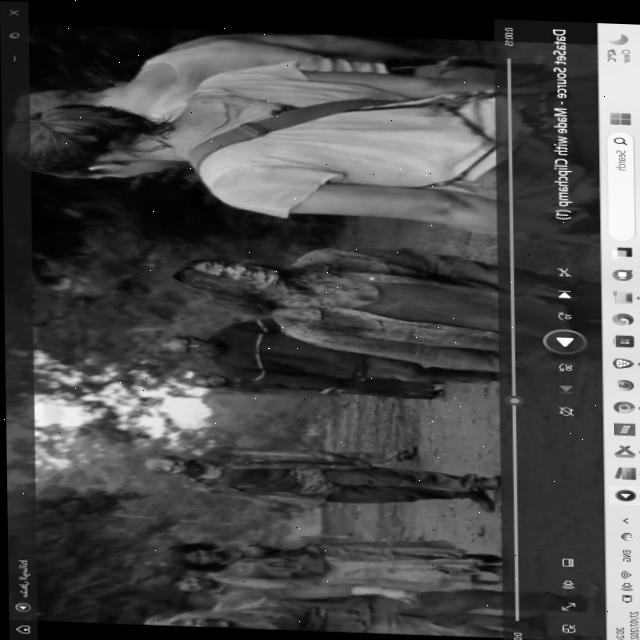Zombie: (168, 247, 299, 311), (169, 537, 224, 571), (151, 606, 225, 624), (142, 448, 194, 473), (160, 333, 213, 352), (165, 576, 217, 591), (189, 369, 227, 386)
